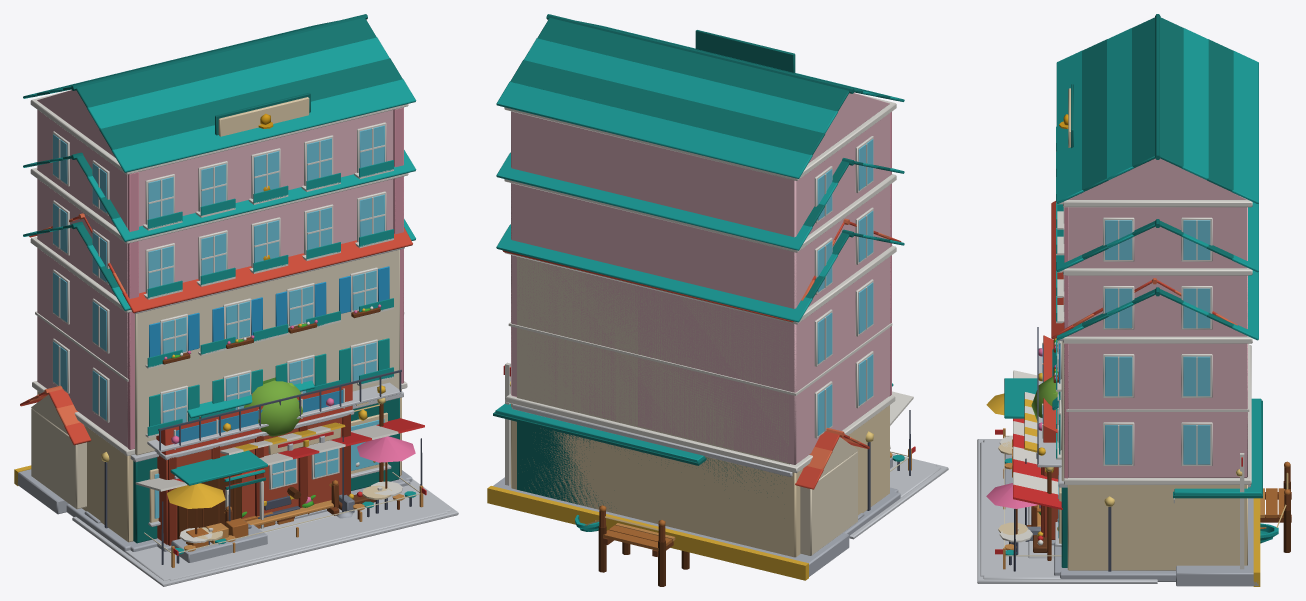
Rendered from decor.glb.
3 views of the same model, side by side, from view 1: azimuth 30°, elevation 25°; view 2: azimuth 150°, elevation 25°; view 3: azimuth 270°, elevation 25° (orthographic). The views are drawn at different scales.
Parts seen in each view (by area): view 1: hotel_t2, apartment, hotel, hotel_t1, cannery, halt, tree2_oak, cottage_t2, plank_bridge, survey_stakes, hospital; view 2: hotel_t2, hotel, hotel_t1, apartment, halt, dock; view 3: hotel_t2, hotel, hotel_t1, apartment, halt, cannery, dock, tree2_oak, hospital, stage.
Boxes of the visible parts, x1,y1,x2,y2 form: hotel_t2: (23,14,416,448); apartment: (29,213,447,580); hotel: (23,219,451,580); hotel_t1: (23,150,416,449); cannery: (155,384,354,562); halt: (14,385,458,586); tree2_oak: (244,377,302,436); cottage_t2: (187,380,314,528); plank_bridge: (224,480,353,526); survey_stakes: (144,472,426,567); hospital: (259,491,384,532); hotel_t2: (496,14,904,463); hotel: (496,224,940,557); hotel_t1: (496,152,904,464); apartment: (502,218,936,508); halt: (487,362,948,580); dock: (575,505,689,586); hotel_t2: (1056,14,1258,477); hotel: (983,270,1258,581); hotel_t1: (1056,202,1258,477); apartment: (980,201,1250,576); halt: (977,398,1262,586); cannery: (1004,335,1058,545); dock: (1260,461,1291,552); tree2_oak: (1031,376,1057,420); hospital: (1028,506,1053,558); stage: (1045,467,1053,560).
Bounding box in the file's own units: 11.7 × 17.35 × 10.45.
